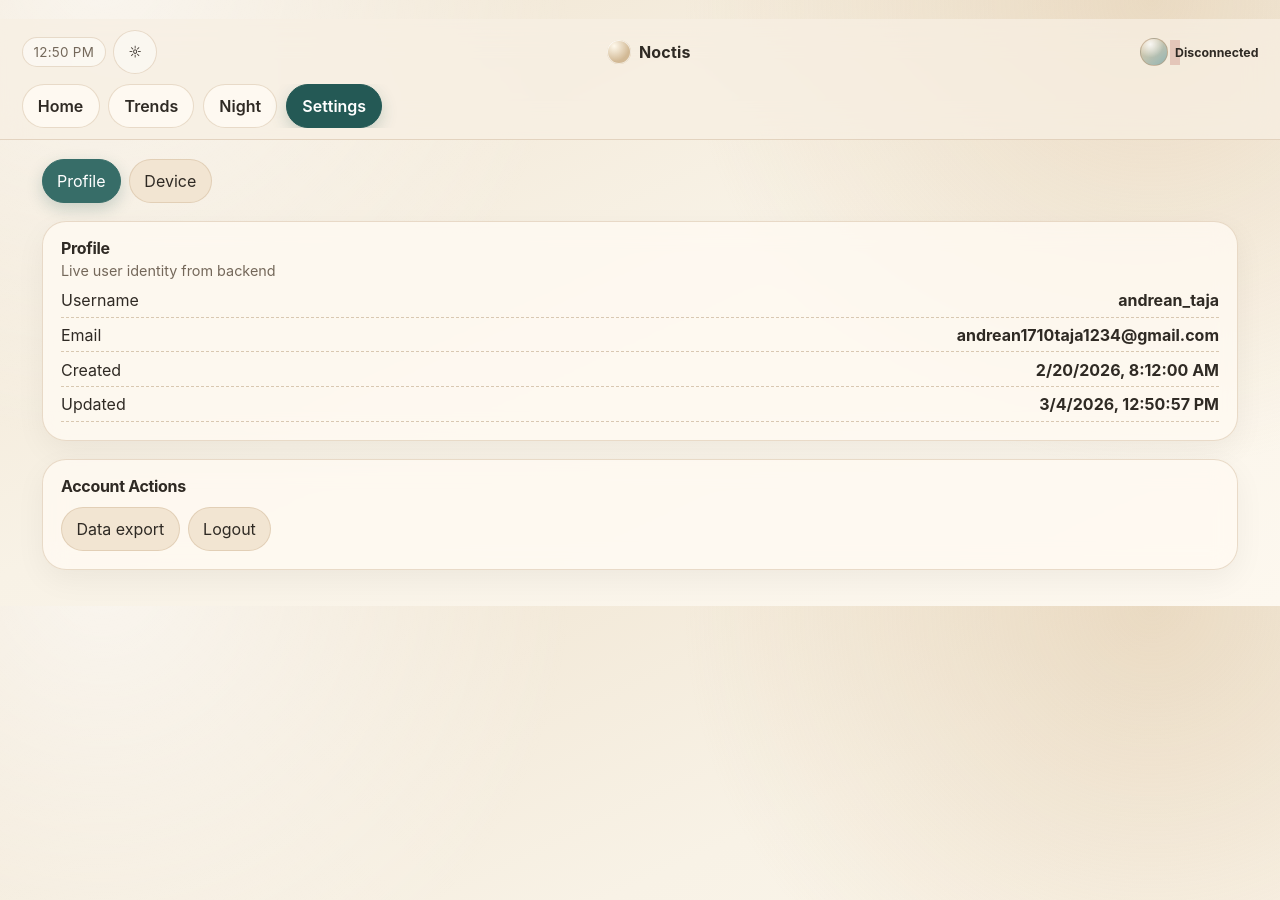
Test: auth flow › redirects to login after logout
Click the button with aria-label "Log out" at (229, 529), box [188,507,271,551]
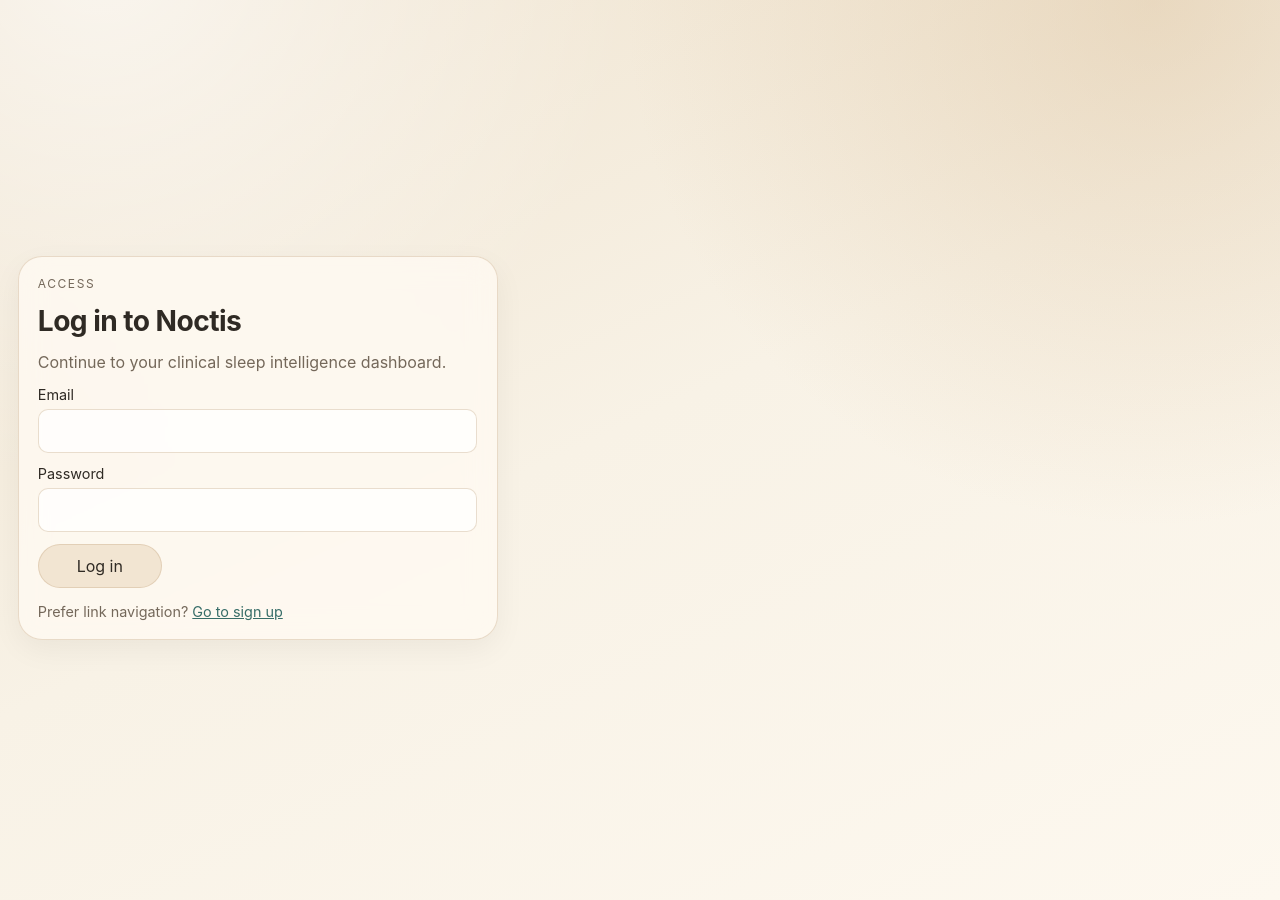
Expected: the heading "Log in to Noctis" is shown, [38,304,241,338]
